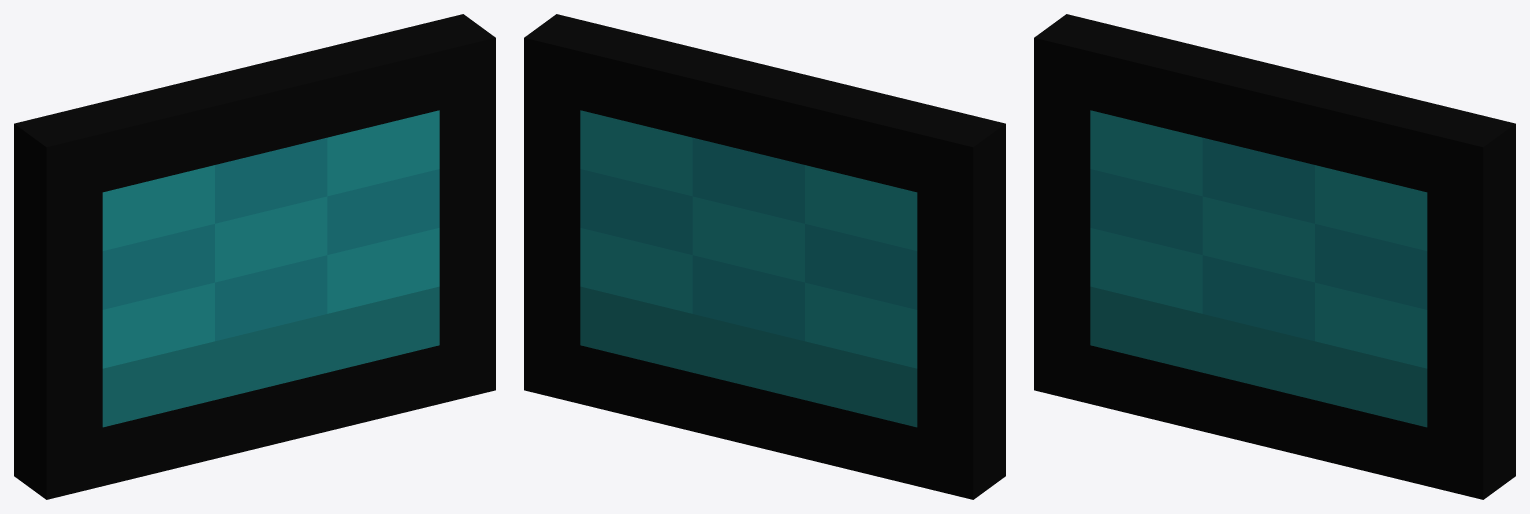
The model's file is Cyan Carpet.glb.
3 views of the same model, side by side, from view 1: azimuth 30°, elevation 25°; view 2: azimuth 150°, elevation 25°; view 3: azimuth 330°, elevation 25° (orthographic).
Parts seen in each view (by area): view 1: generated(Clone); view 2: generated(Clone); view 3: generated(Clone).
Part boxes in pixels (x1,y1,x2,y2): generated(Clone): (14,14,495,499); generated(Clone): (524,14,1005,499); generated(Clone): (1034,14,1515,499).
Size of the model in its own units: 8 by 6 by 1.
Materials: 1 (1 with a texture image).
